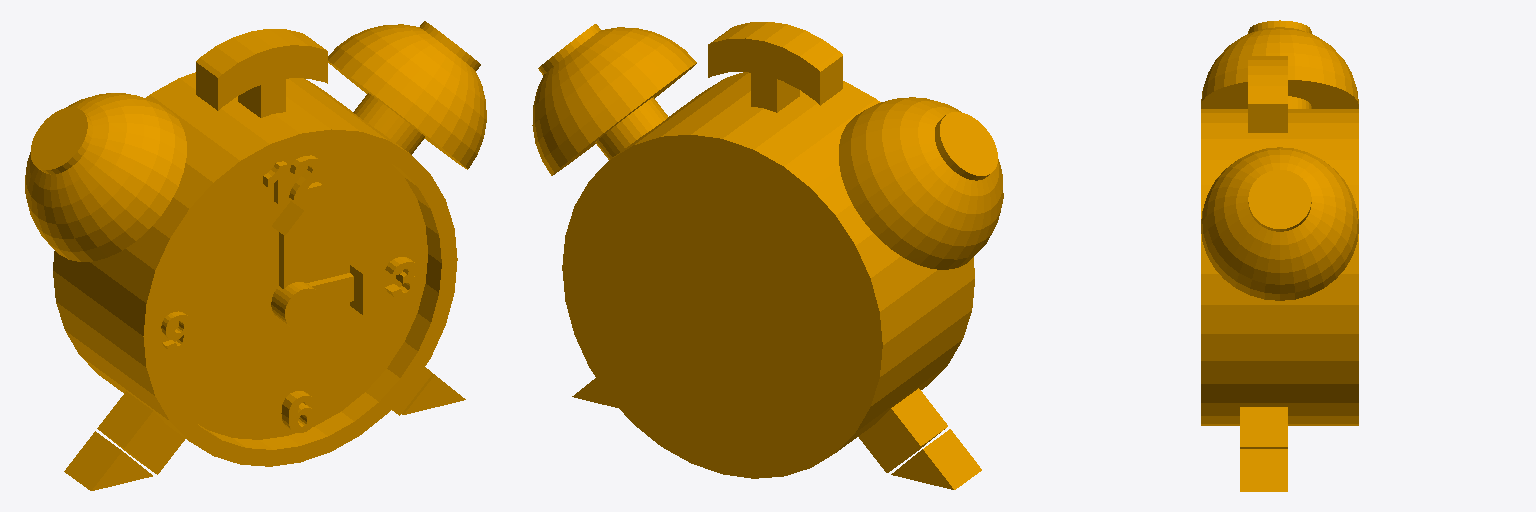
The robot description file, URDF, robot "object":
<?xml version="1.0"?>
<robot name="object">
  <link name="object">
    <visual>
      <origin xyz="0.0 0.0 0.0"/>
      <geometry>
        <mesh filename="alarm_clock.stl" scale="1.00 1.00 1.00"/>
      </geometry>
    </visual>
    <collision>
      <origin xyz="0.0 0.0 0.0"/>
      <geometry>
        <mesh filename="alarm_clock.stl" scale="1.00 1.00 1.00"/>
      </geometry>
    </collision>
  </link>
</robot>
    
                    

--- Render facts (derived) ---
3 views of the same robot in one strip: view 1: azimuth 30°, elevation 25°; view 2: azimuth 150°, elevation 25°; view 3: azimuth 270°, elevation 25° (orthographic).
Model object with 1 links and 0 joints (none), rooted at object, posed all joints at 0.
Visible links, largest first — view 1: object; view 2: object; view 3: object.
Link boxes in pixels (bbox=[...]): object: bbox=[25, 21, 486, 490]; object: bbox=[532, 22, 1003, 489]; object: bbox=[1201, 20, 1358, 491].
Bounding box of the posed robot: 0.1257 × 0.045 × 0.1081 m (x, y, z).
1 mesh visuals loaded from 1 distinct referenced files (1 binary STL).
